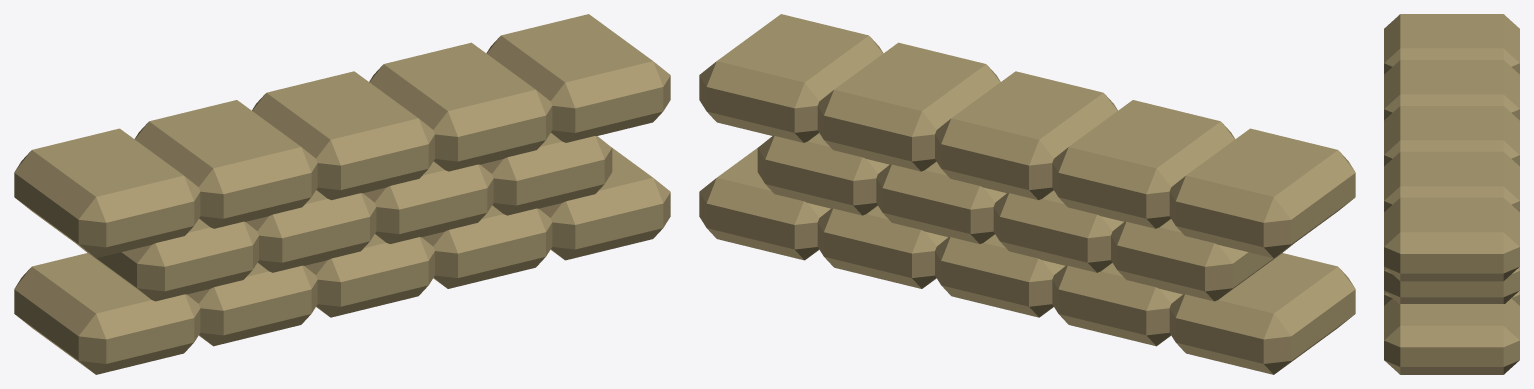
Rendered from sandbags.glb.
The picture shows the model from 3 angles, left to right: view 1: azimuth 30°, elevation 25°; view 2: azimuth 150°, elevation 25°; view 3: azimuth 270°, elevation 25°; orthographic projection. The views are drawn at different scales.
Parts seen in each view (by area): view 1: Sandbags; view 2: Sandbags; view 3: Sandbags.
Part boxes in pixels (x1,y1,x2,y2): Sandbags: (14, 14, 670, 374); Sandbags: (699, 14, 1355, 374); Sandbags: (1384, 14, 1519, 374).
Bounding box in the file's own units: 2.02 × 0.58 × 0.5.
